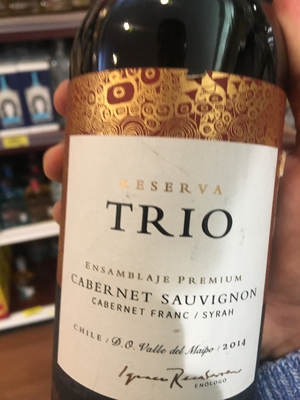trio cabernet sauvignon: (60, 31, 296, 400)
